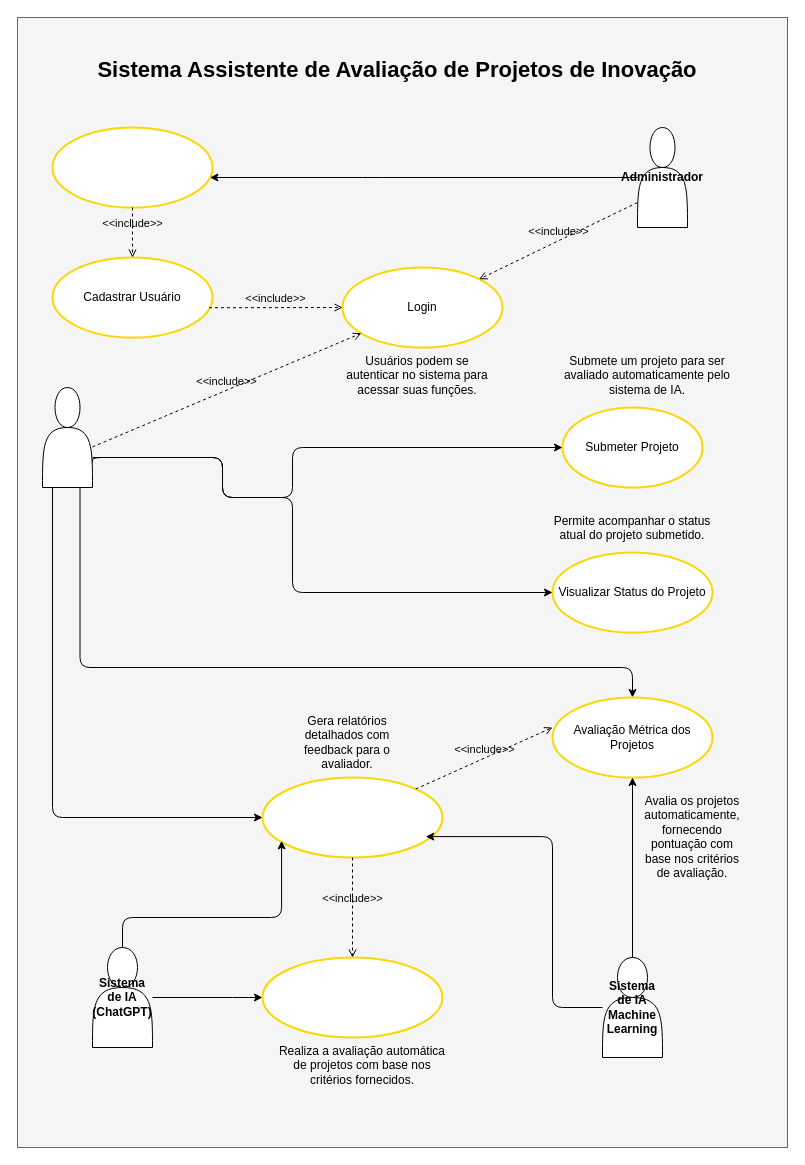
Image size: 805x1165. Some labels were removed from this diagram. The centre of each missing label's shape, as x and y in pixels:
"Avaliador" goes at point (67, 437).
"Avaliação Automática de Projetos" goes at point (352, 997).
"Gerar Feedback e Relatórios" goes at point (352, 817).
"Gerenciar Usuários" goes at point (132, 167).
